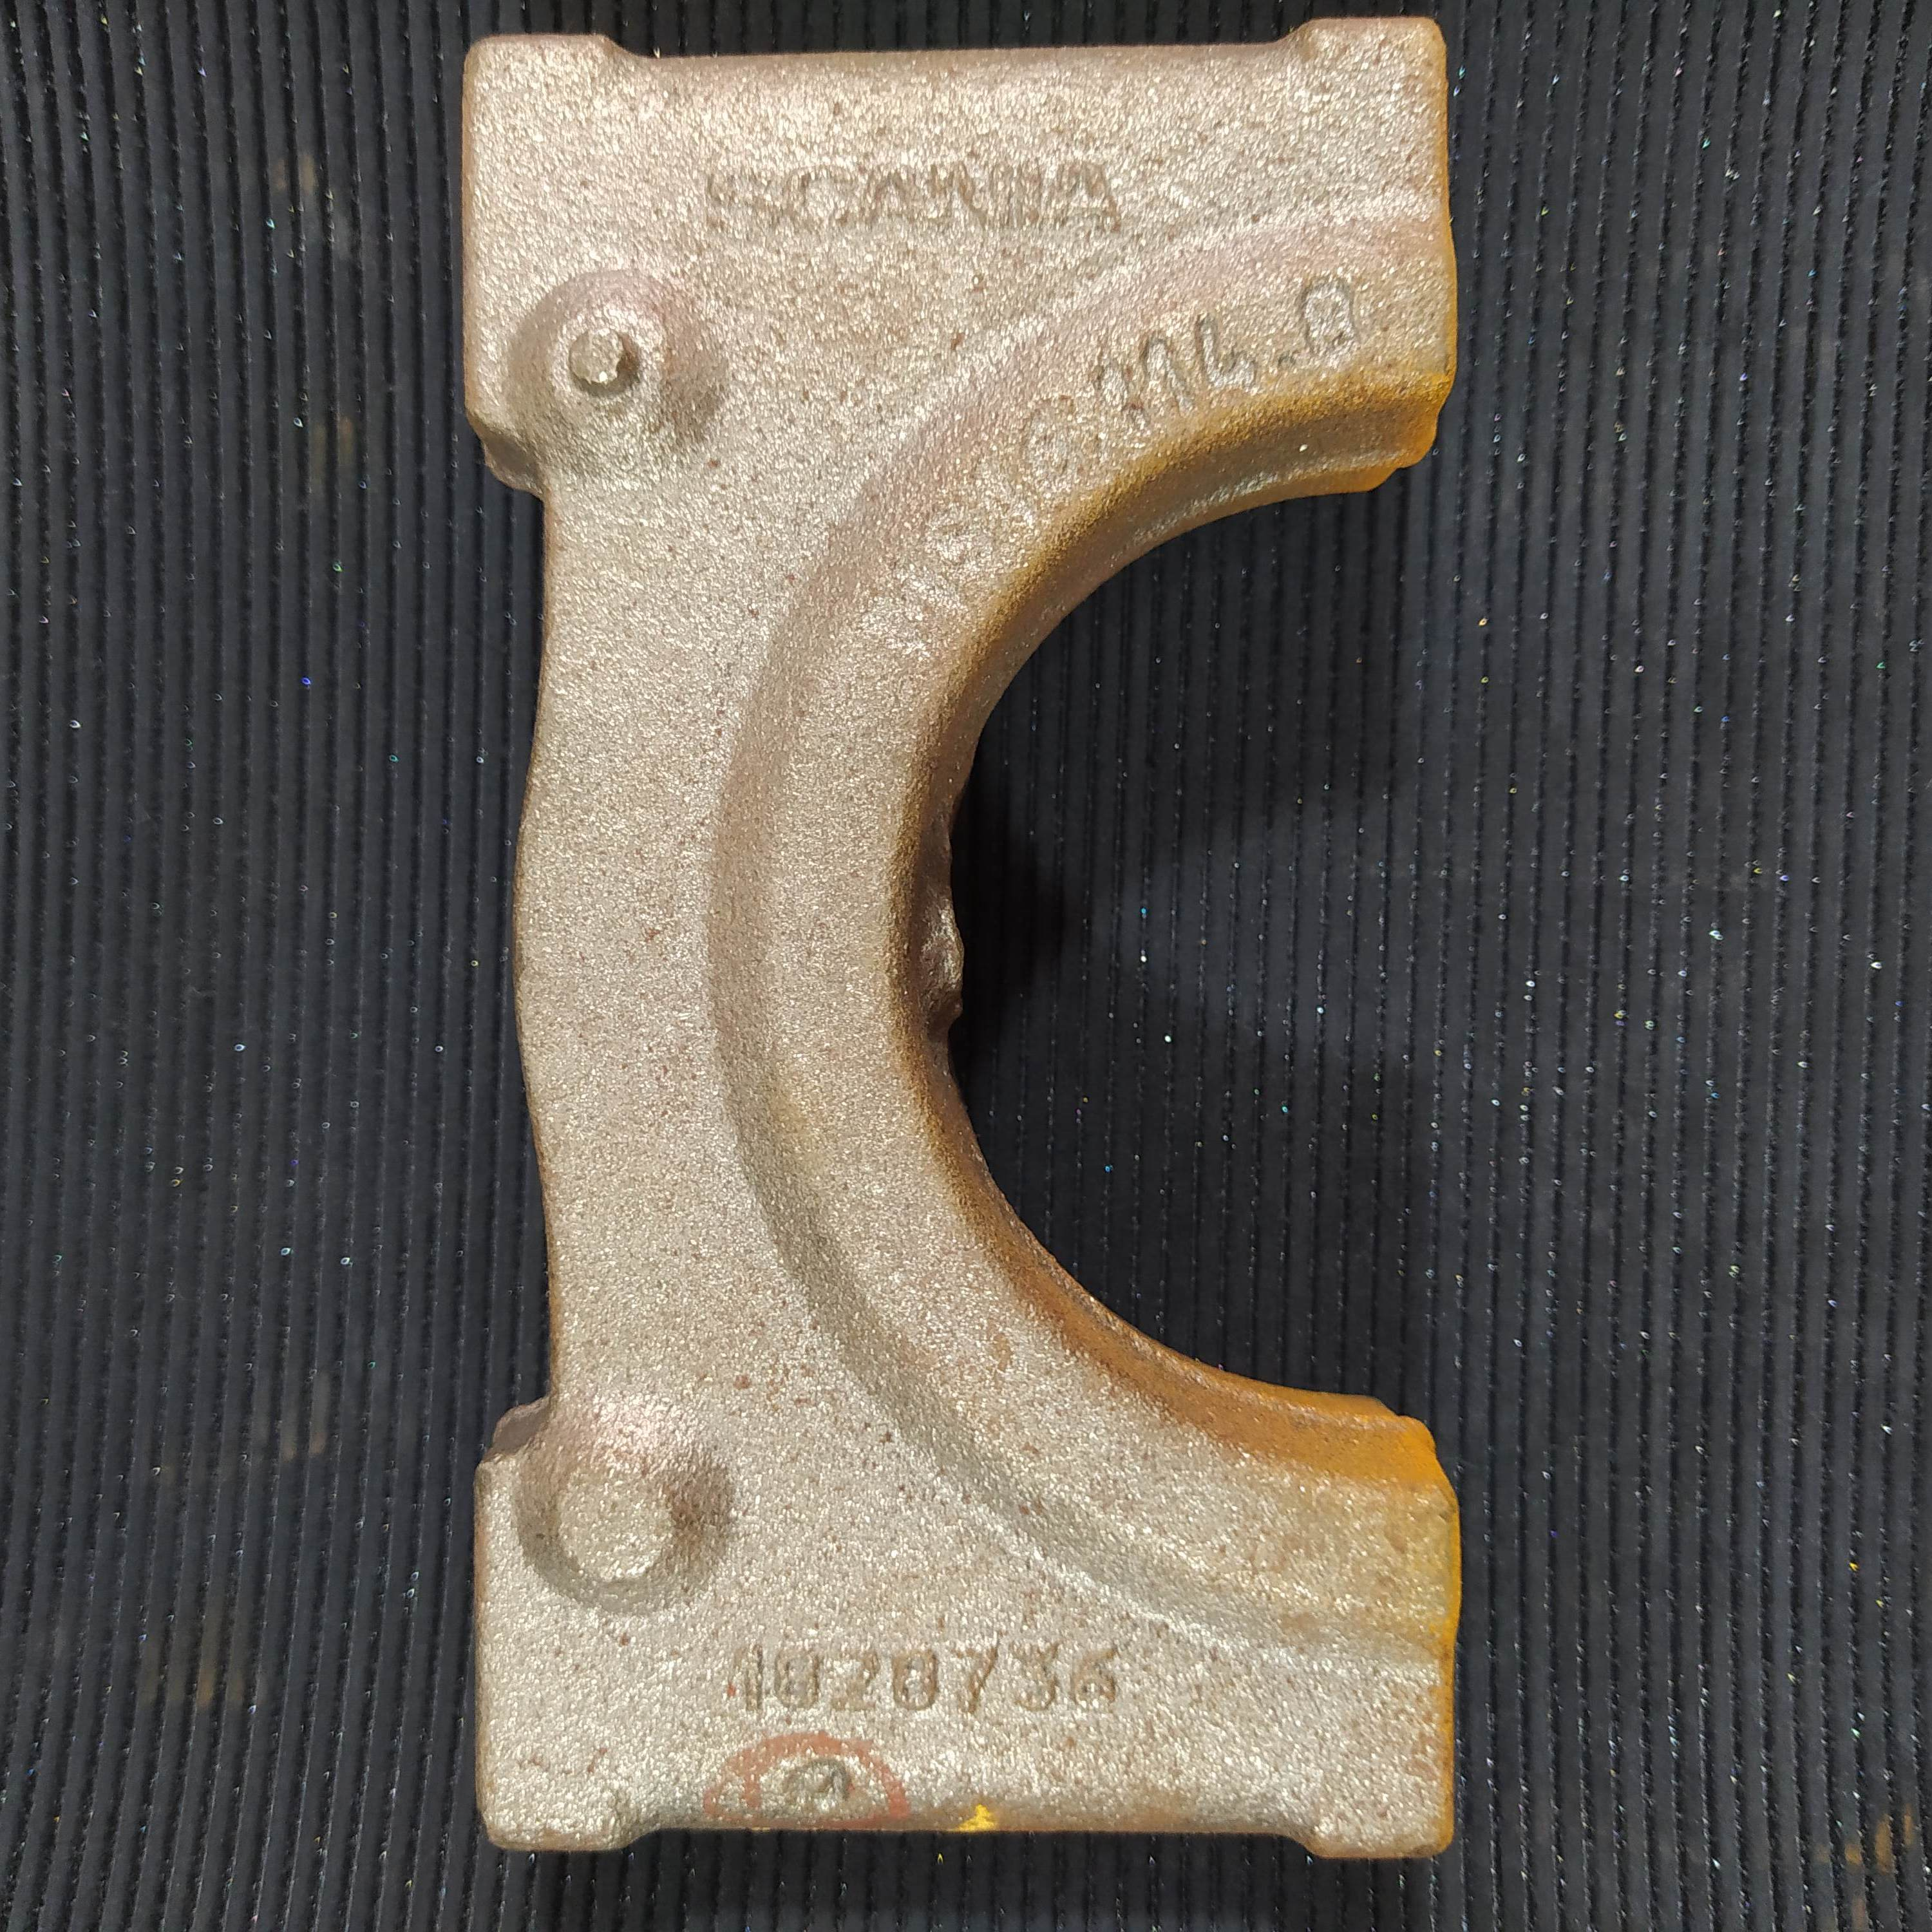buraco: (782, 1757, 856, 1817)
